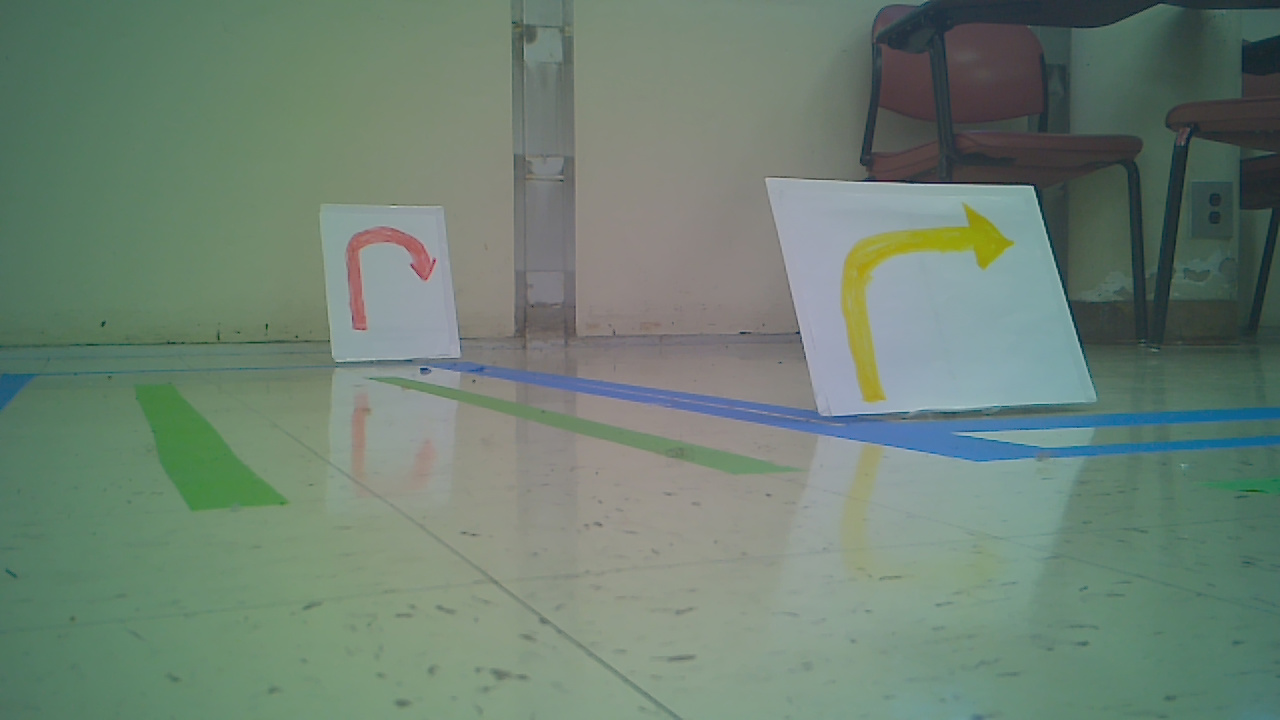greenline: (380, 375, 789, 476), (137, 379, 286, 506)
right: (766, 173, 1098, 413)
uturn: (340, 225, 442, 325)
